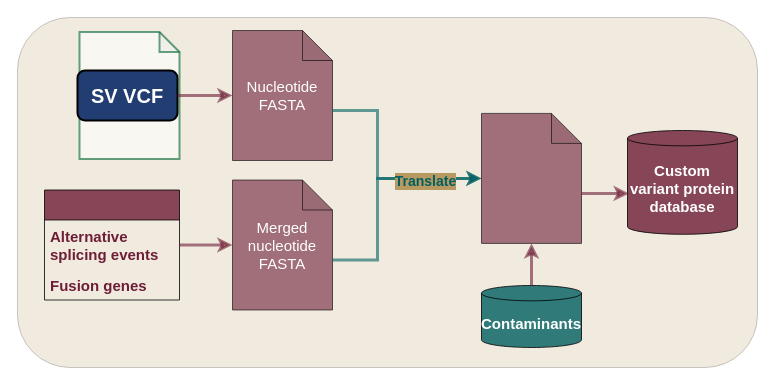
The diagram is 775 pixels wide and 385 high, and some of its shapes have lost their labels. The shapes that lost their labels are listed below. From the top down, each one's box as (x1, y1, x2, y2) in pixels, then its label:
(480, 112, 582, 243): Protein FASTA
(44, 189, 180, 300): RNA output
